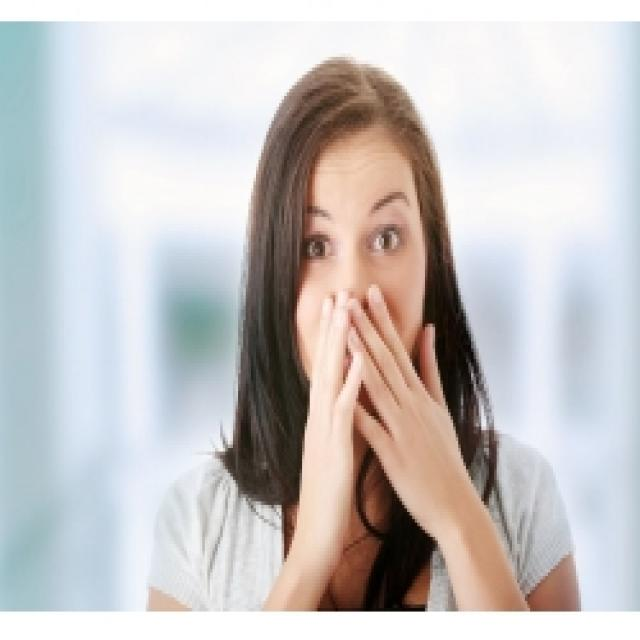nomask: (291, 130, 426, 403)
